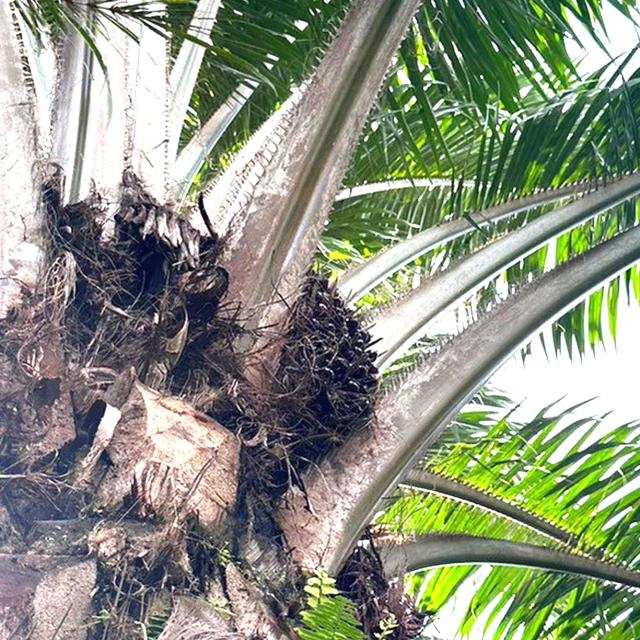almost: (262, 260, 395, 448)
